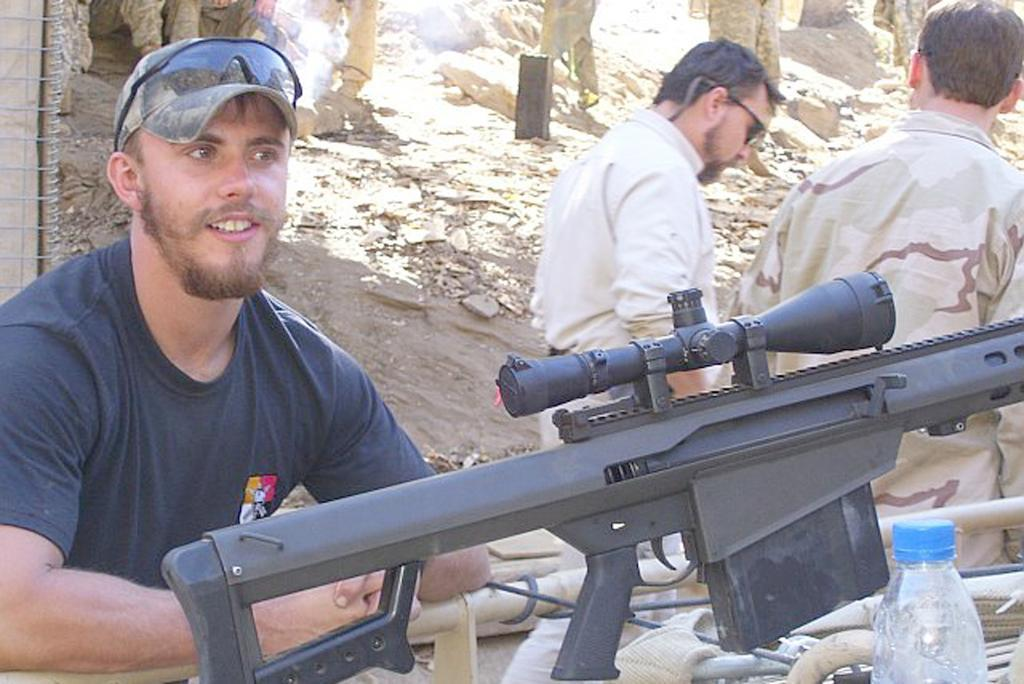gun: (154, 275, 1024, 684)
